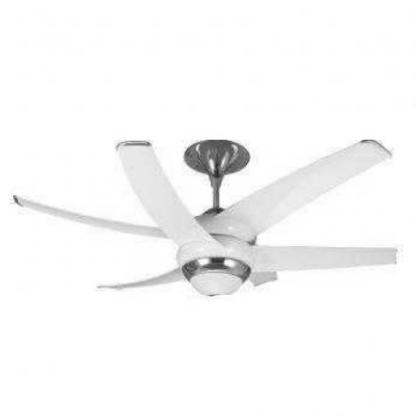ceiling-fan: (13, 140, 397, 296)
